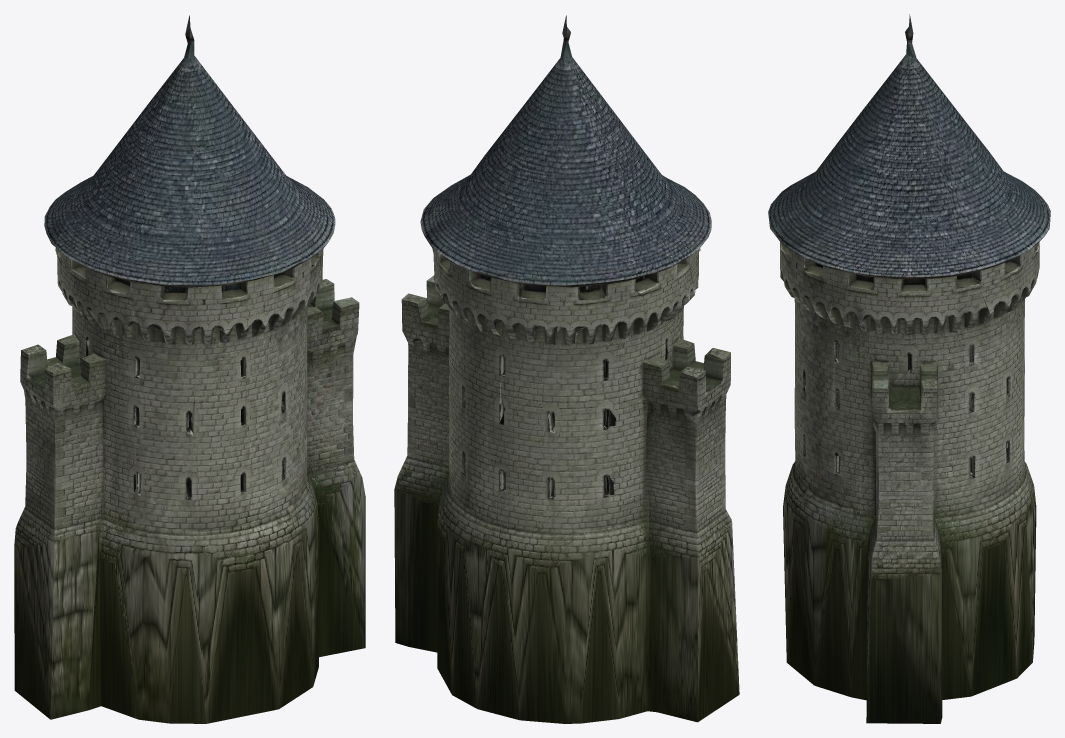
File: wall_tower.glb
3 views of the same model, side by side, from view 1: azimuth 30°, elevation 25°; view 2: azimuth 150°, elevation 25°; view 3: azimuth 270°, elevation 25° (orthographic). The views are drawn at different scales.
Visible parts, largest first — view 1: wall_tower_export; view 2: wall_tower_export; view 3: wall_tower_export.
Part boxes in pixels (<box>): wall_tower_export: <box>14,15,365,723</box>; wall_tower_export: <box>394,15,739,723</box>; wall_tower_export: <box>768,14,1050,723</box>.
Bounding box in the file's own units: 18 × 36.01 × 14.5.
Materials: 2 (2 with a texture image).
